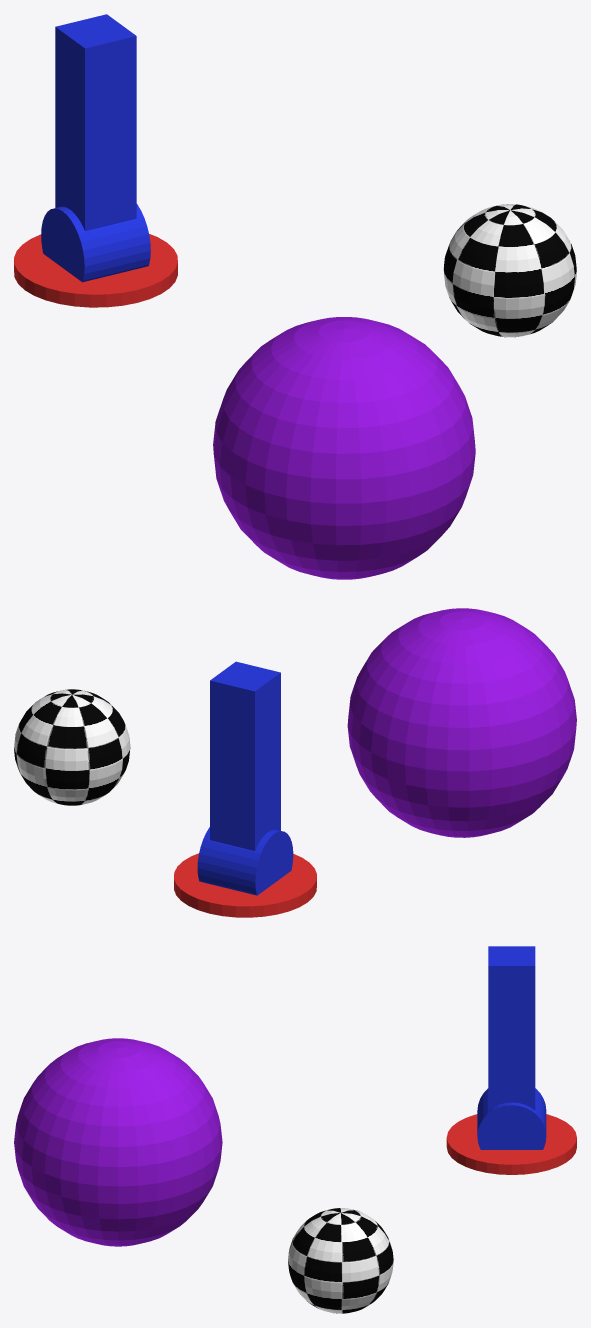
The model's file is robot_arm_pre.fbx.
3 views of the same model, one above another, from view 1: azimuth 30°, elevation 25°; view 2: azimuth 150°, elevation 25°; view 3: azimuth 270°, elevation 25° (orthographic). The views are drawn at different scales.
Parts seen in each view (by area): view 1: Sphere, arm1, ball, base, arm1_rotator; view 2: Sphere, arm1, ball, base, arm1_rotator; view 3: Sphere, ball, arm1, base, arm1_rotator.
Part boxes in pixels (x1,y1,x2,y2): Sphere: (213, 317, 475, 579); arm1: (55, 14, 136, 231); ball: (443, 204, 576, 337); base: (14, 234, 177, 307); arm1_rotator: (41, 204, 150, 282); Sphere: (347, 608, 576, 837); arm1: (210, 661, 280, 850); ball: (14, 689, 130, 805); base: (174, 853, 316, 917); arm1_rotator: (197, 827, 293, 895); Sphere: (14, 1038, 222, 1246); ball: (288, 1208, 393, 1313); arm1: (488, 946, 535, 1110); base: (446, 1114, 576, 1174); arm1_rotator: (477, 1088, 546, 1149).
Bounding box in the file's own units: 306 × 217 × 394.
